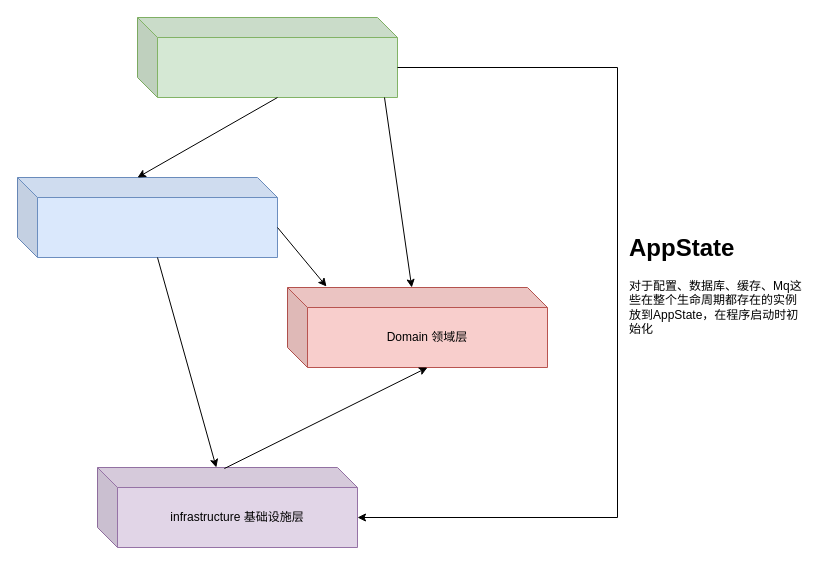
The diagram is 825 pixels wide and 565 high, and some of its shapes have lost their labels. The shapes that lost their labels are listed below. From the top down, each one's centre as x and y in pixels, then its label:
At (267,57): "Interface 用户界面层".
At (147,217): "Application 应用层".
